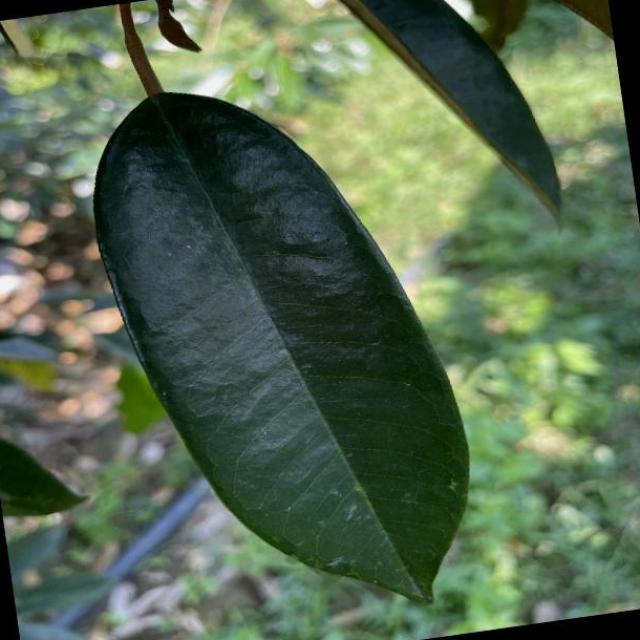No Disease: (66, 47, 502, 640)
